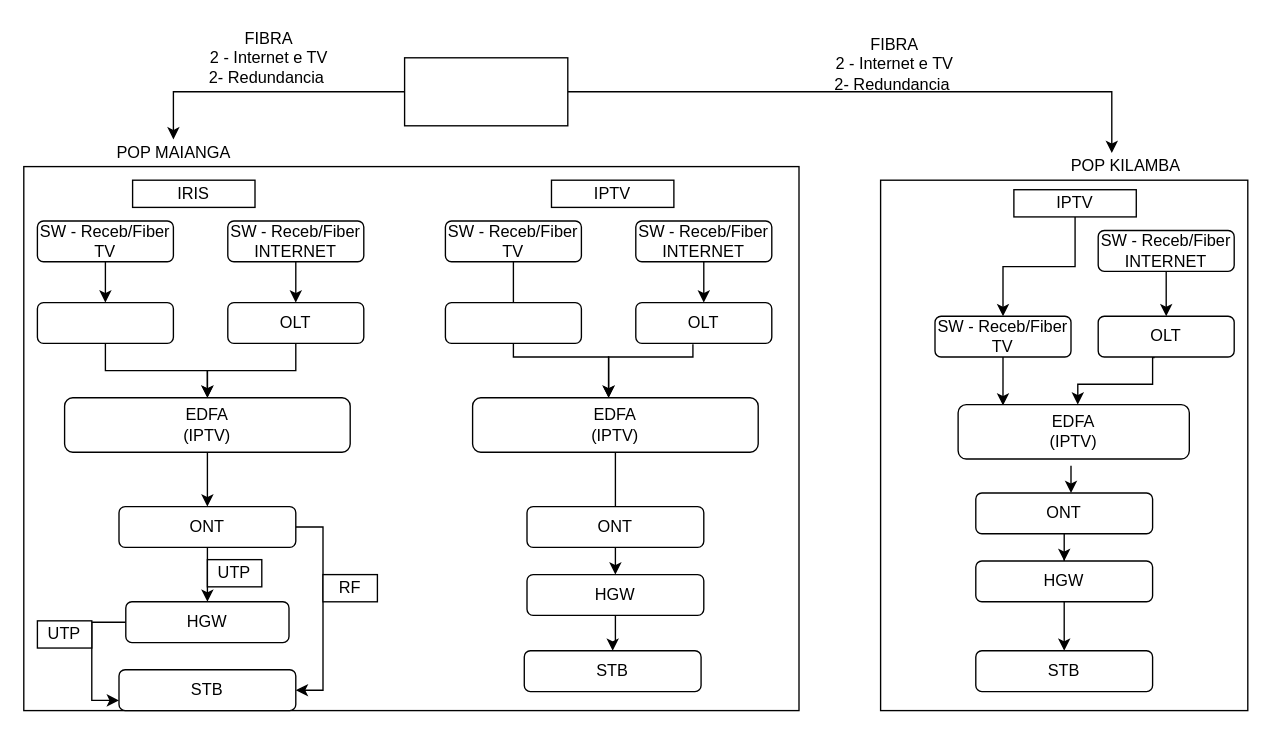
Image size: 1272x734. Some labels were removed from this diagram. The centre of each missing label's shape, as x and y in pixels:
"PRISMA" belongs at pixel 512 322.
"PRISMA amplificador" belongs at pixel 104 322.
"TALATONA" belongs at pixel 485 91.
